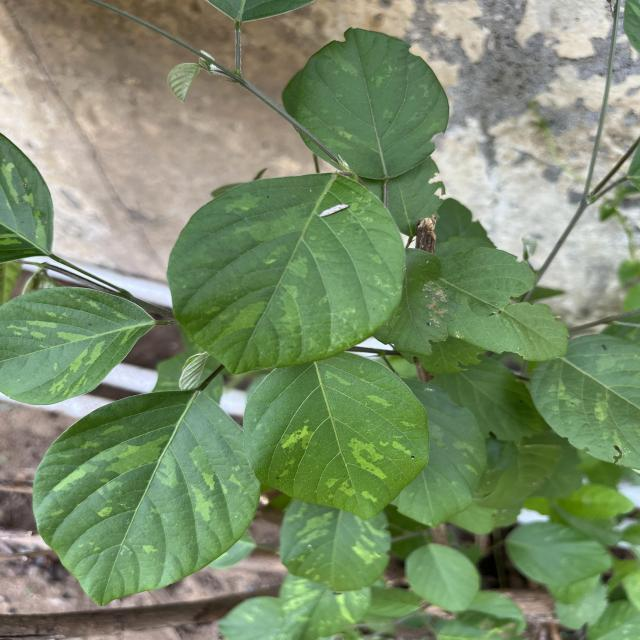Desmodium gangeticum: (29, 384, 264, 608), (164, 170, 409, 376), (240, 350, 434, 522), (0, 284, 160, 408)
